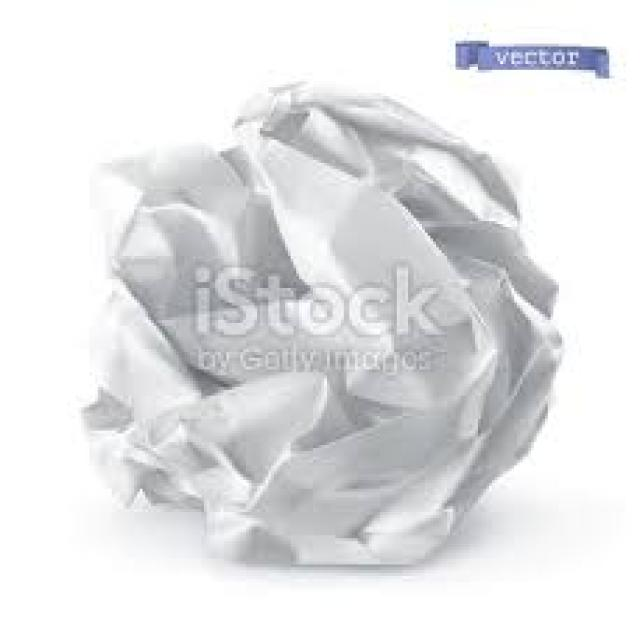paper: (75, 82, 562, 568)
